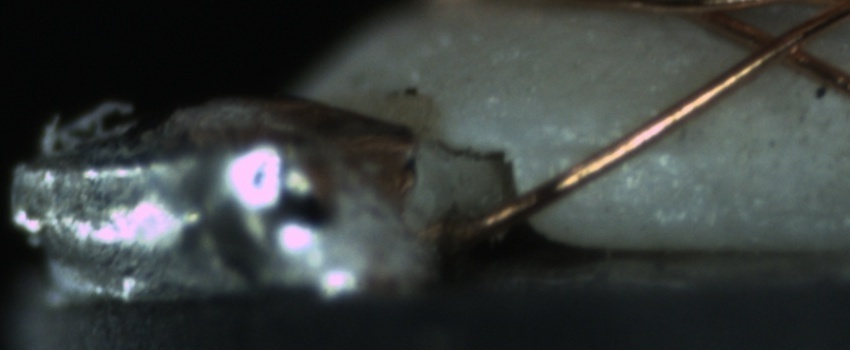CL: (727, 15, 827, 78)
DL: (532, 116, 675, 173)
